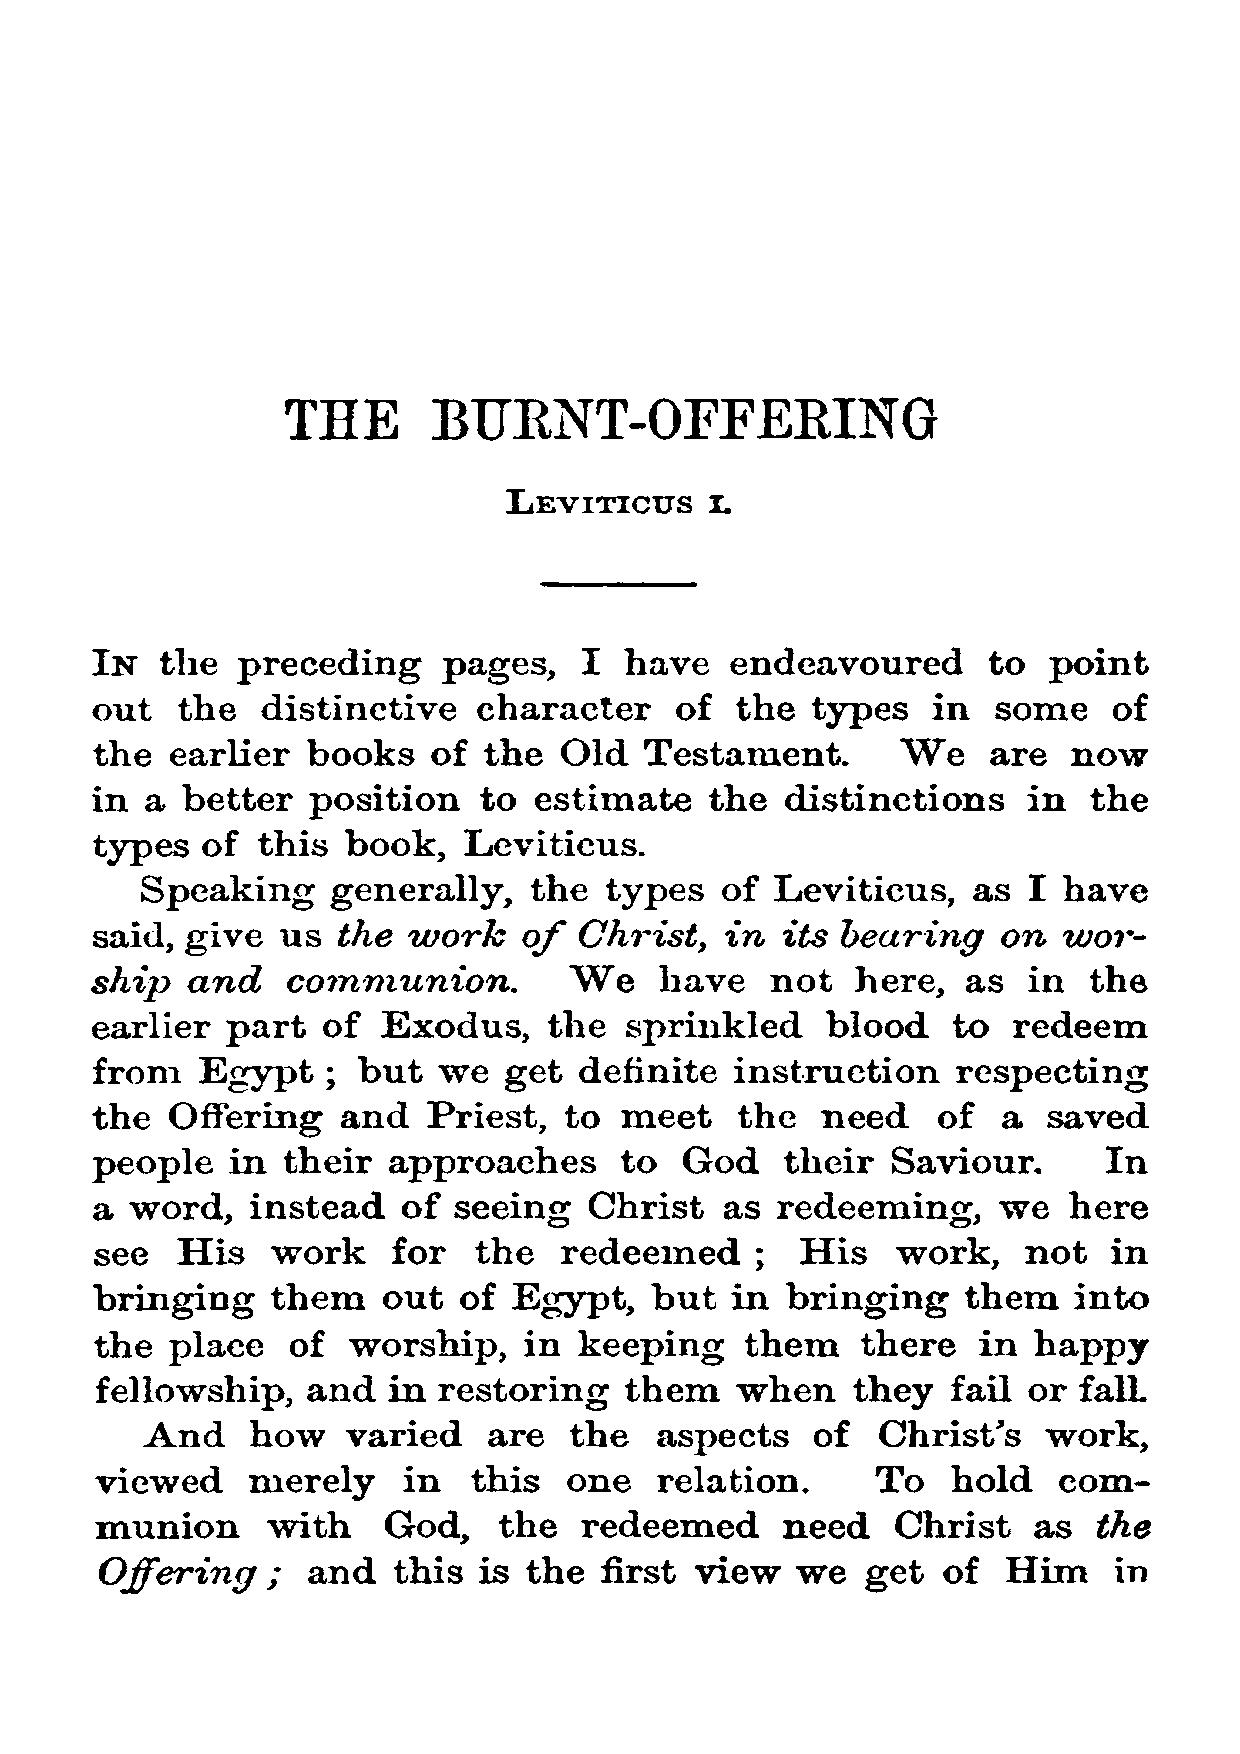chapter: (280, 391, 935, 519)
content: (89, 641, 1153, 1598)
